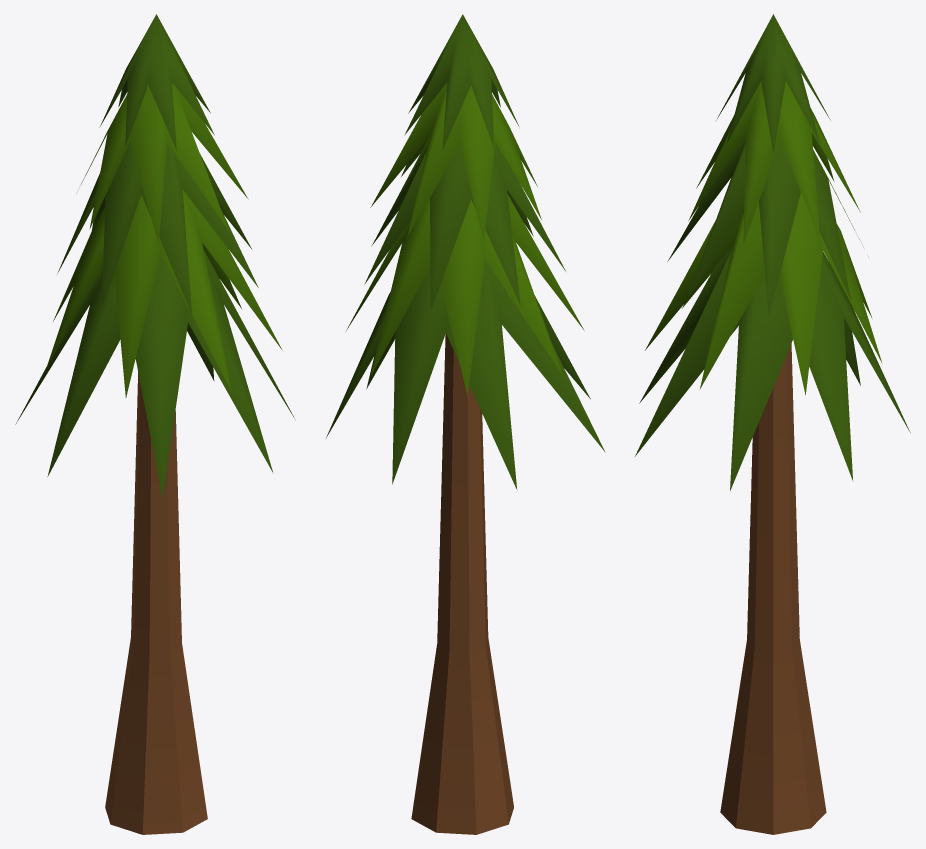
Rendered from PineTree1.fbx.
The picture shows the model from 3 angles, left to right: view 1: azimuth 30°, elevation 25°; view 2: azimuth 150°, elevation 25°; view 3: azimuth 270°, elevation 25°; orthographic projection.
Visible parts, largest first — view 1: pCylinder6, pCylinder5, pCylinder4, pCylinder3, pCylinder2, pCylinder1; view 2: pCylinder6, pCylinder5, pCylinder4, pCylinder3, pCylinder2, pCylinder1; view 3: pCylinder6, pCylinder5, pCylinder4, pCylinder3, pCylinder2, pCylinder1.
Boxes of the visible parts, <box> form: pCylinder6: <box>105,372,207,834</box>; pCylinder5: <box>15,249,295,497</box>; pCylinder4: <box>46,190,282,397</box>; pCylinder3: <box>57,142,258,314</box>; pCylinder2: <box>81,82,248,244</box>; pCylinder1: <box>99,14,214,150</box>; pCylinder6: <box>411,333,513,834</box>; pCylinder5: <box>326,259,605,490</box>; pCylinder4: <box>346,194,584,395</box>; pCylinder3: <box>364,137,565,310</box>; pCylinder2: <box>370,82,541,242</box>; pCylinder1: <box>404,14,519,150</box>; pCylinder6: <box>720,343,826,834</box>; pCylinder5: <box>635,246,910,490</box>; pCylinder4: <box>645,192,882,394</box>; pCylinder3: <box>667,136,868,316</box>; pCylinder2: <box>688,81,860,244</box>; pCylinder1: <box>715,14,830,153</box>.
Size of the model in its own units: 2.31 by 7.22 by 2.27.
